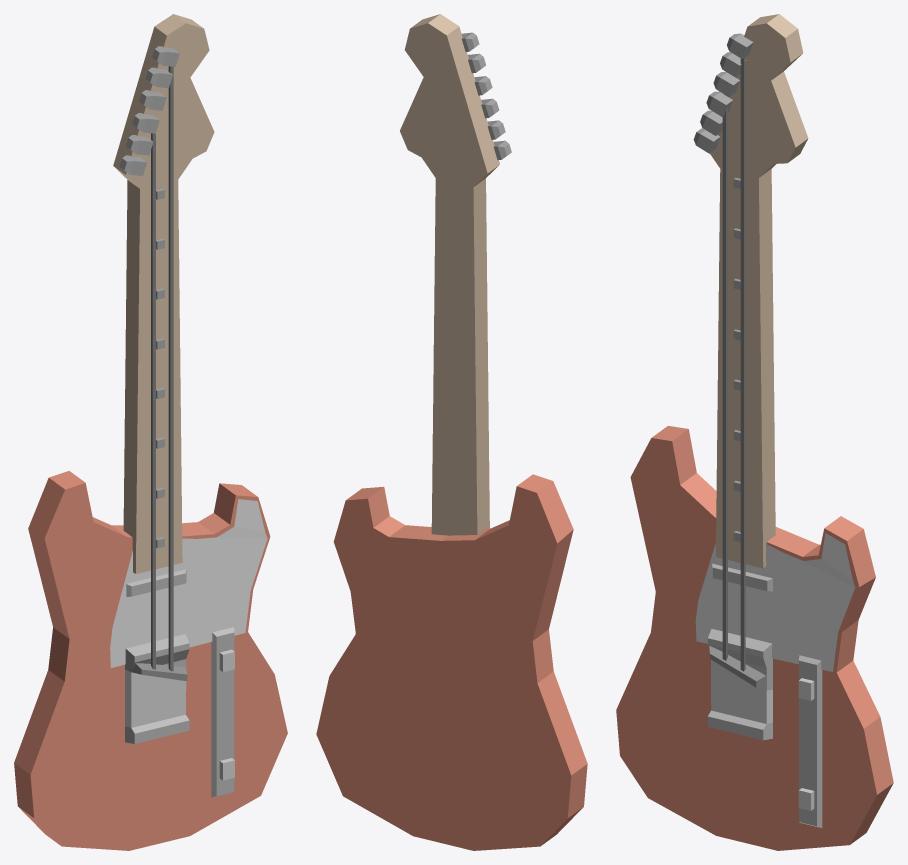
File: gitara.fbx
The picture shows the model from 3 angles, left to right: view 1: azimuth 30°, elevation 25°; view 2: azimuth 150°, elevation 25°; view 3: azimuth 330°, elevation 25°; orthographic projection. The views are drawn at different scales.
Visible parts, largest first — view 1: Guitar; view 2: Guitar; view 3: Guitar.
Part boxes in pixels (x1,y1,x2,y2): Guitar: (14, 14, 287, 850); Guitar: (316, 14, 587, 850); Guitar: (616, 14, 893, 850).
Size of the model in its own units: 2.1 by 6.38 by 0.3786.
